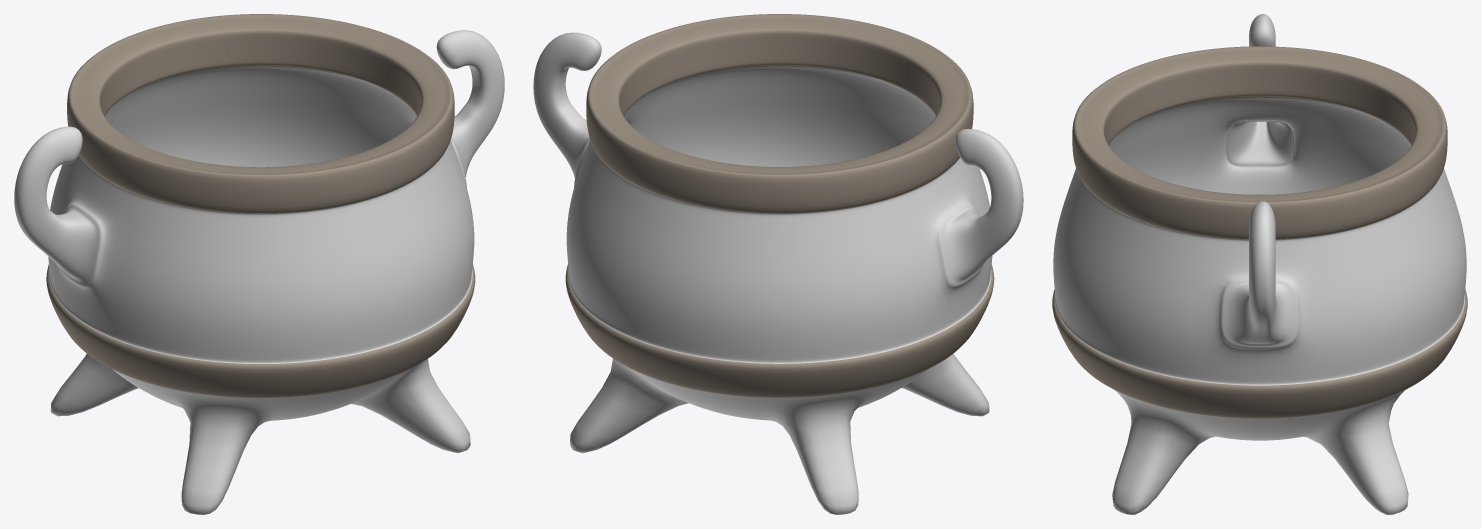
Rendered from chaudron.fbx.
3 renders of one model, left to right at view 1: azimuth 30°, elevation 25°; view 2: azimuth 150°, elevation 25°; view 3: azimuth 270°, elevation 25°, orthographic. The views are drawn at different scales.
Visible parts, largest first — view 1: Chaudron; view 2: Chaudron; view 3: Chaudron.
Boxes of the visible parts, x1,y1,x2,y2 form: Chaudron: (14,14,504,514); Chaudron: (533,14,1023,514); Chaudron: (1052,14,1467,514).
Bounding box in the file's own units: 717 × 493 × 548.
